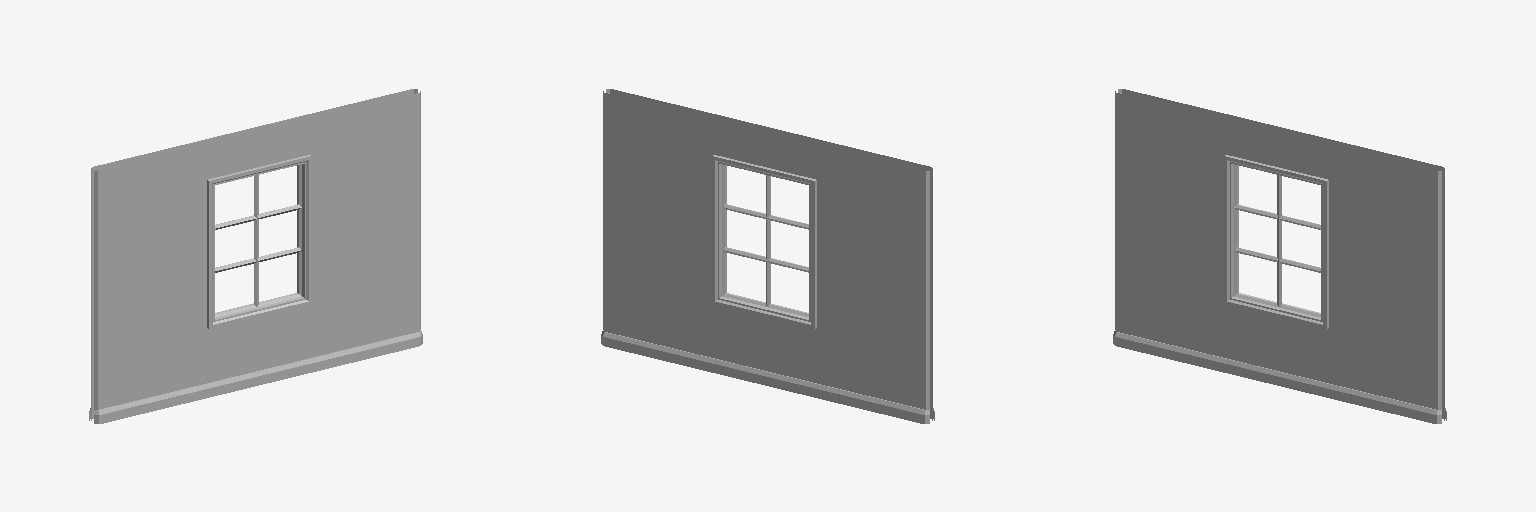
Rendered from window_2_1_single_no_glass.obj.
The picture shows the model from 3 angles: view 1: azimuth 30°, elevation 25°; view 2: azimuth 150°, elevation 25°; view 3: azimuth 330°, elevation 25°; orthographic projection.
Visible parts, largest first — view 1: window_2_1_single_no_glass; view 2: window_2_1_single_no_glass; view 3: window_2_1_single_no_glass.
Boxes of the visible parts, box(x1,y1,x2,y2) form: window_2_1_single_no_glass: box(89, 89, 422, 423); window_2_1_single_no_glass: box(601, 89, 934, 423); window_2_1_single_no_glass: box(1113, 89, 1446, 423).
Size of the model in its own units: 4.09 by 3 by 0.2.